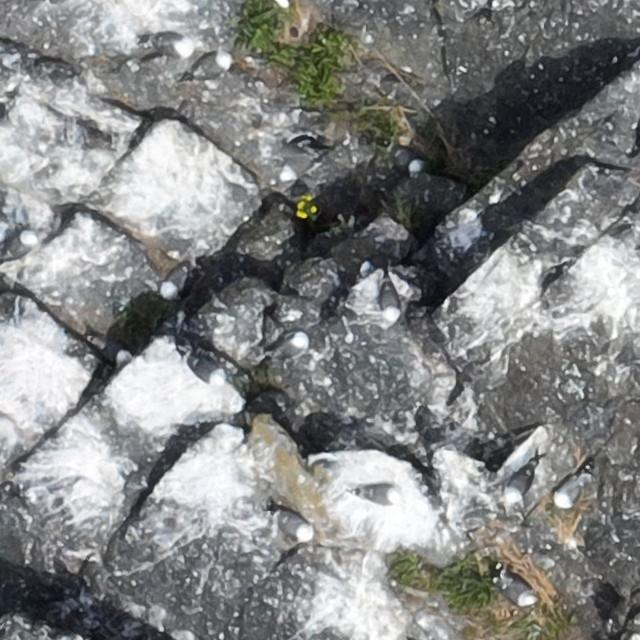umineko: (502, 460, 538, 505), (146, 38, 194, 70), (2, 228, 37, 266), (280, 152, 319, 183), (502, 576, 536, 606), (392, 148, 428, 176), (188, 356, 222, 384), (278, 512, 313, 537), (87, 338, 128, 359), (194, 54, 227, 76), (555, 477, 580, 506), (275, 334, 307, 356), (363, 486, 400, 503), (164, 267, 187, 294), (380, 286, 398, 320)
